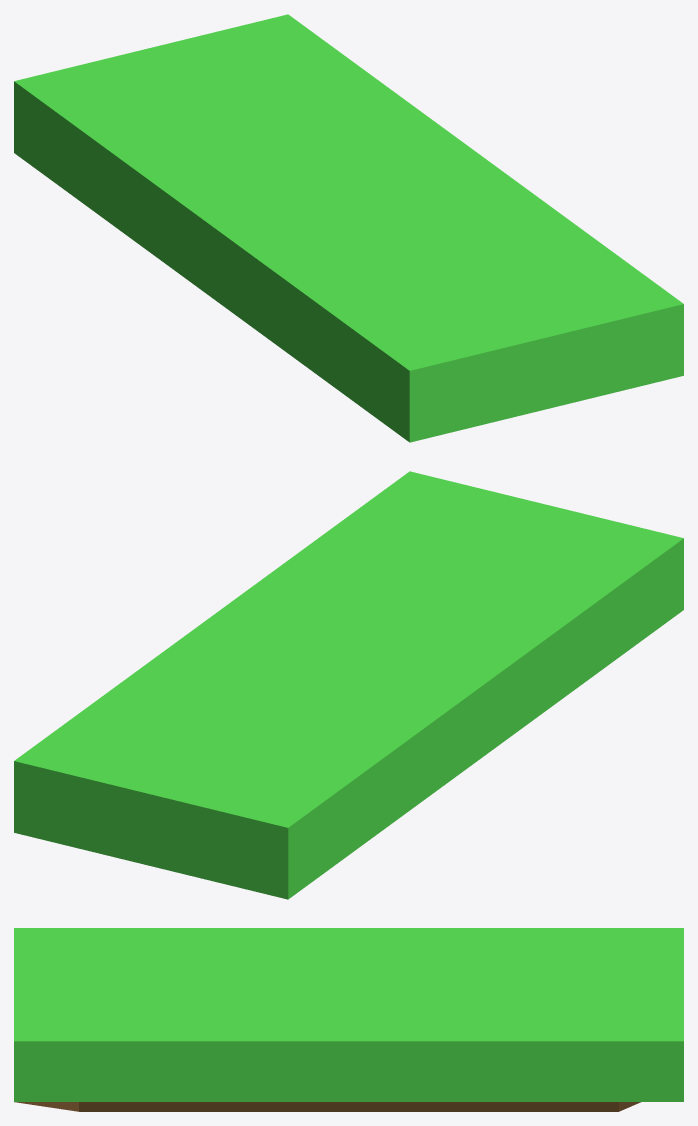
Rendered from Platform.fbx.
3 views of the same model, one above another, from view 1: azimuth 30°, elevation 25°; view 2: azimuth 150°, elevation 25°; view 3: azimuth 270°, elevation 25° (orthographic). The views are drawn at different scales.
Visible parts, largest first — view 1: Cube; view 2: Cube; view 3: Cube.
Part boxes in pixels (left/top/right/bottom): Cube: left=14, top=14, right=683, bottom=442; Cube: left=14, top=471, right=683, bottom=899; Cube: left=14, top=928, right=683, bottom=1111.
Size of the model in its own units: 200 by 73.22 by 500.
